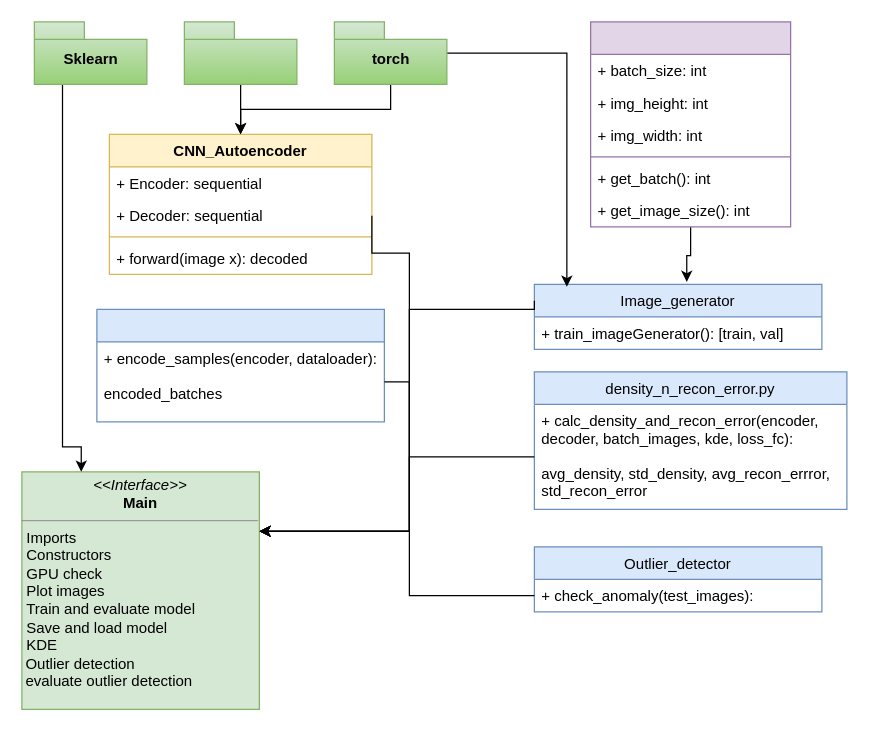
This 869x731 diagram has some shape labels left out. The box of each missing label's shape, as (x1, y1, x2, y2) in pixels:
encode_samples.py: (96, 308, 384, 422)
Parameters: (589, 21, 791, 227)
torchvision: (183, 21, 297, 84)
